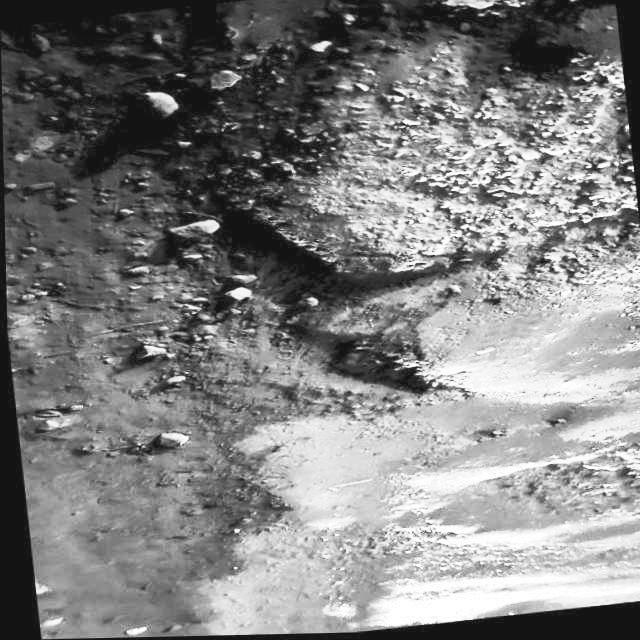Pothole: (253, 220, 452, 451), (502, 443, 640, 534)
